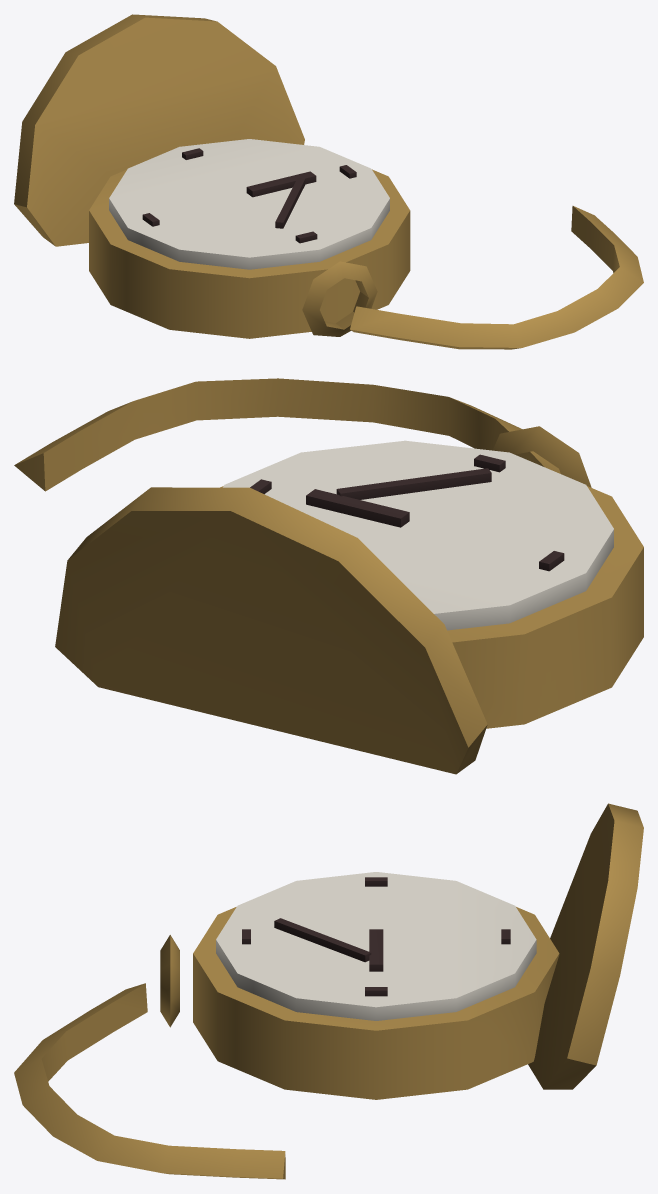
File: curio_pocketWatch.glb
3 views of the same model, one above another, from view 1: azimuth 30°, elevation 25°; view 2: azimuth 150°, elevation 25°; view 3: azimuth 270°, elevation 25° (orthographic). The views are drawn at different scales.
Parts seen in each view (by area): view 1: curio_pocketWatch; view 2: curio_pocketWatch; view 3: curio_pocketWatch.
Boxes of the visible parts, x1,y1,x2,y2 form: curio_pocketWatch: (14,14,643,349); curio_pocketWatch: (14,378,643,774); curio_pocketWatch: (14,803,643,1179).
Size of the model in its own units: 0.0765 by 0.0292 by 0.0825.
